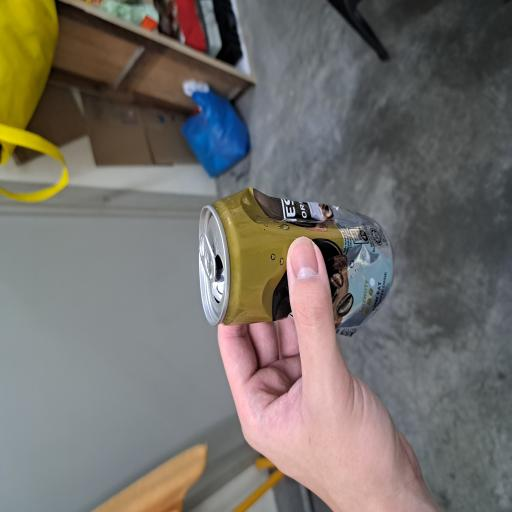can: (130, 264, 243, 512)
pop tab: (170, 263, 210, 289)
